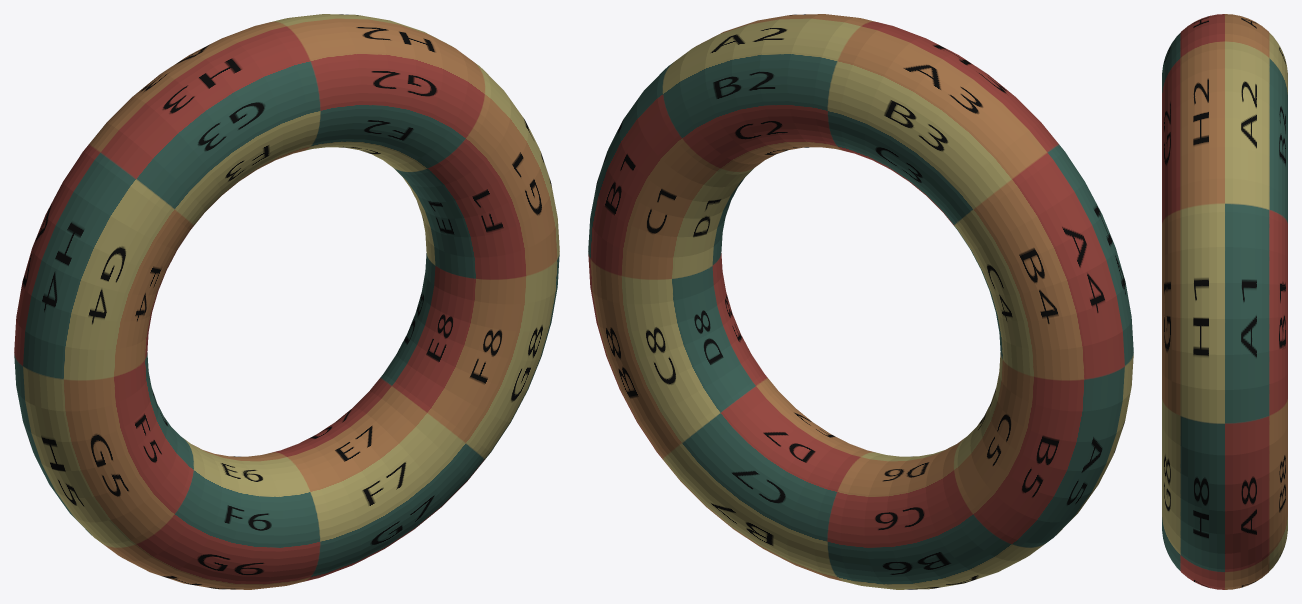
The model's file is texture_torus_R30_r24.glb.
3 renders of one model, left to right at view 1: azimuth 30°, elevation 25°; view 2: azimuth 150°, elevation 25°; view 3: azimuth 270°, elevation 25°, orthographic. The views are drawn at different scales.
Visible parts, largest first — view 1: world; view 2: world; view 3: world.
Boxes of the visible parts, x1,y1,x2,y2 form: world: (14, 14, 559, 589); world: (588, 14, 1133, 589); world: (1162, 14, 1287, 589).
Bounding box in the file's own units: 38.4 × 38.32 × 8.38.
Materials: 1 (1 with a texture image).
